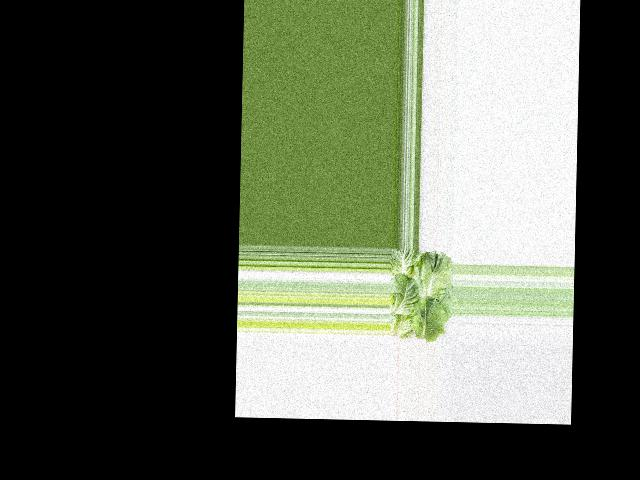lettuce: (387, 249, 451, 340)
